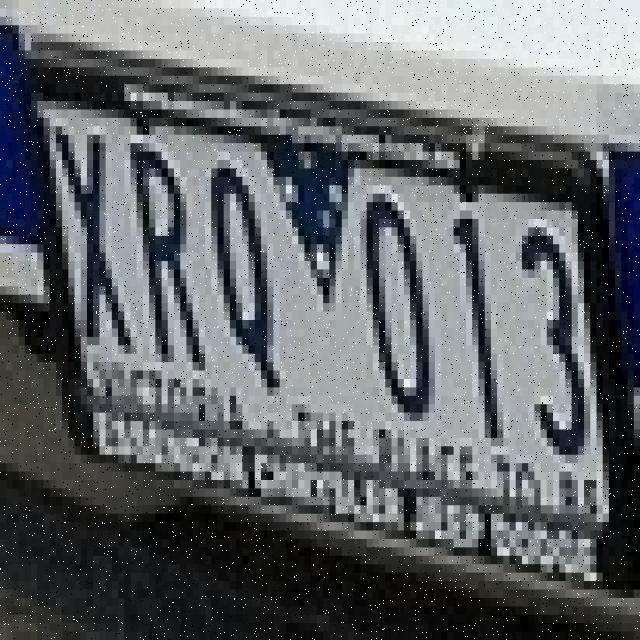License Plate: (30, 74, 634, 586)
